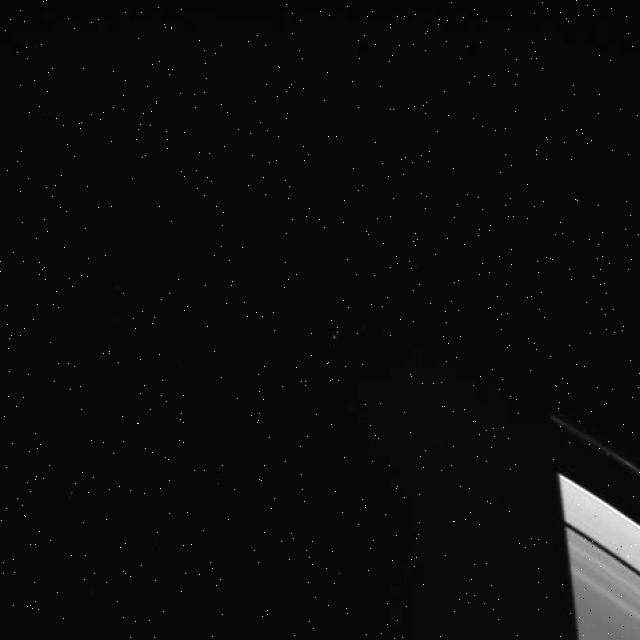Saturn: (545, 410, 640, 640)
